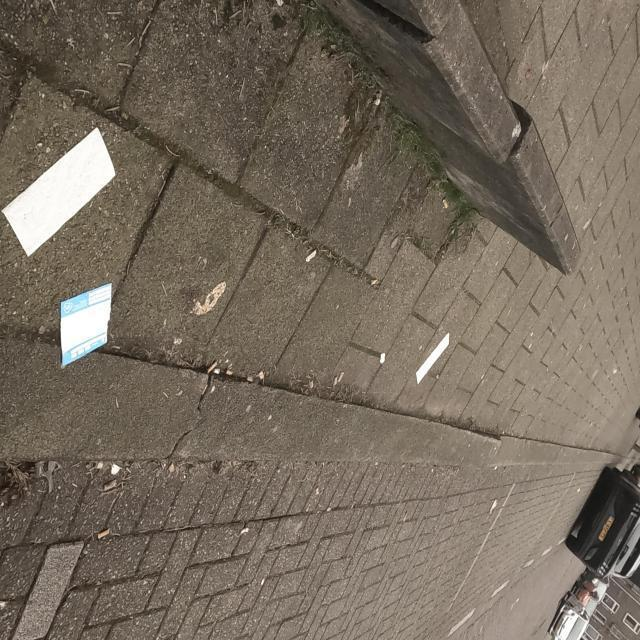Paper: (552, 385, 626, 495), (524, 280, 580, 340), (186, 252, 224, 308)
